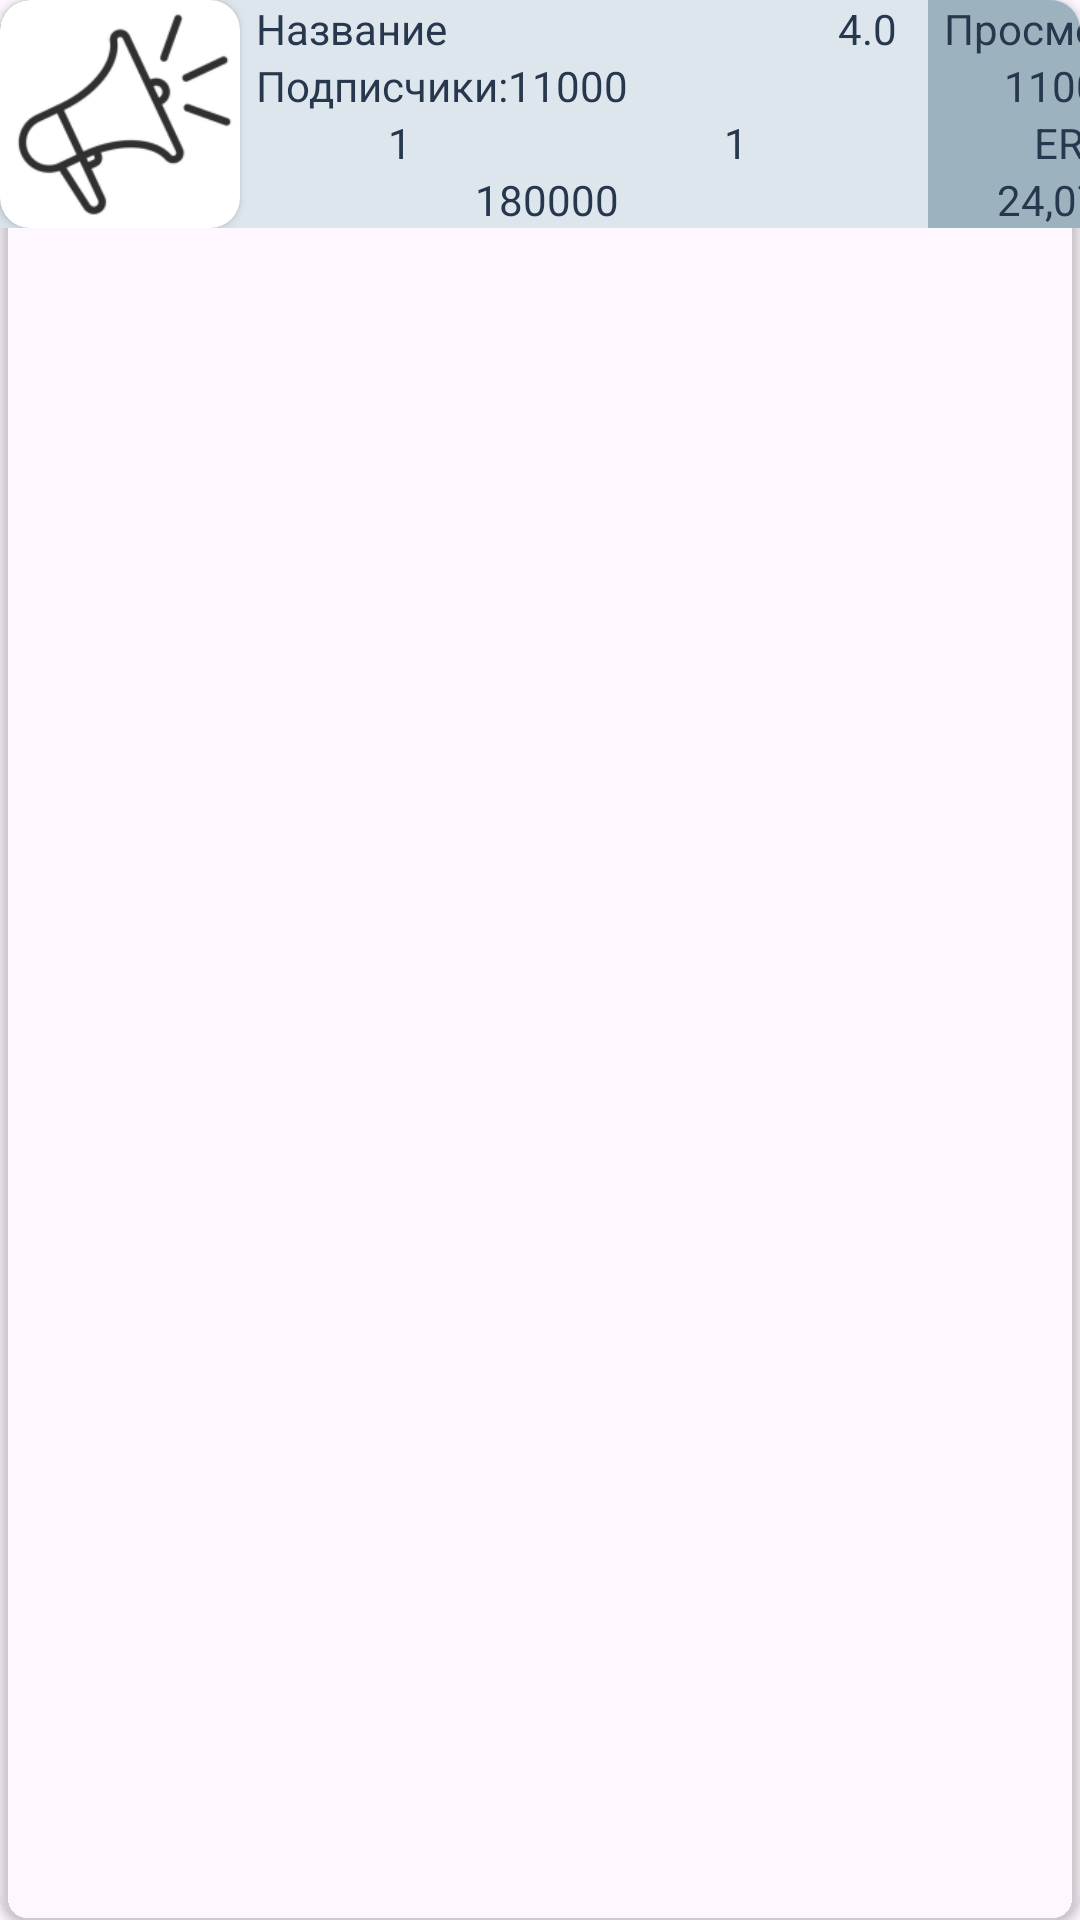

Screen size 1080px x 1920px. Icon name, then its box in pixels as (x1, y1, x2, y2):
channel: (9, 0, 240, 228)
